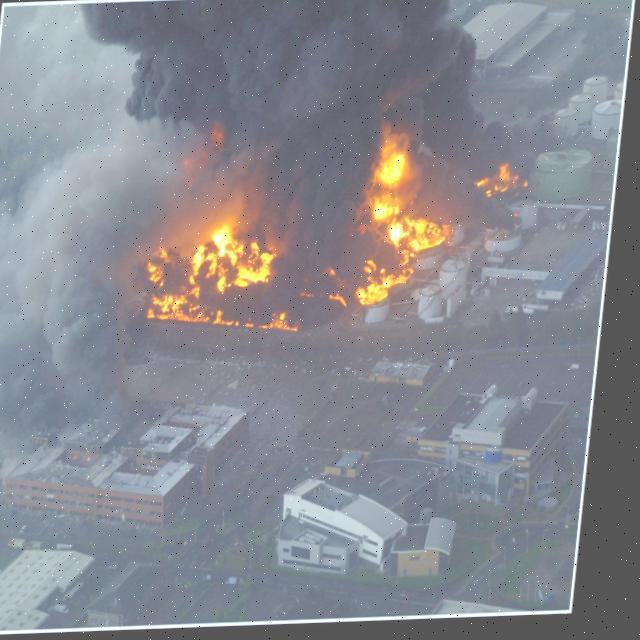Fire: (124, 125, 535, 342)
